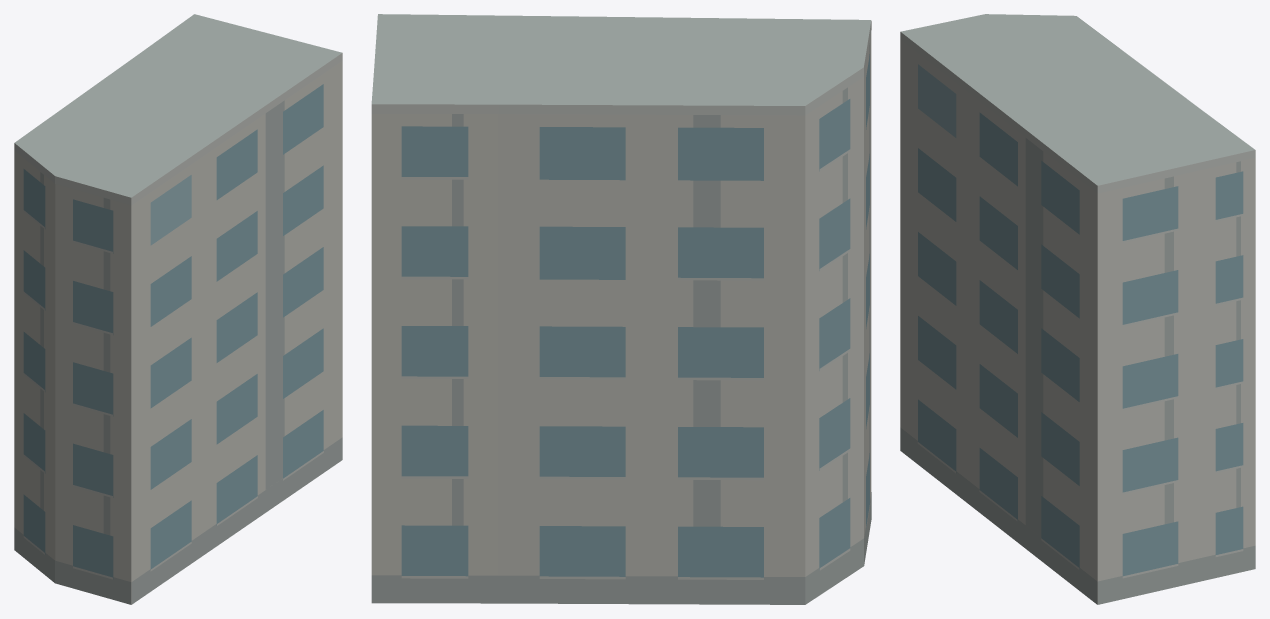
Rendered from survey-upis-32726277.glb.
3 renders of one model, left to right at view 1: azimuth 30°, elevation 25°; view 2: azimuth 150°, elevation 25°; view 3: azimuth 270°, elevation 25°, orthographic. The views are drawn at different scales.
Visible parts, largest first — view 1: survey-upis-32726277.tmp; view 2: survey-upis-32726277.tmp; view 3: survey-upis-32726277.tmp.
Part boxes in pixels (<box>): survey-upis-32726277.tmp: <box>14,14,342,604</box>; survey-upis-32726277.tmp: <box>371,14,871,604</box>; survey-upis-32726277.tmp: <box>900,14,1255,604</box>.
Bounding box in the file's own units: 11.26 × 12.8 × 9.84.
